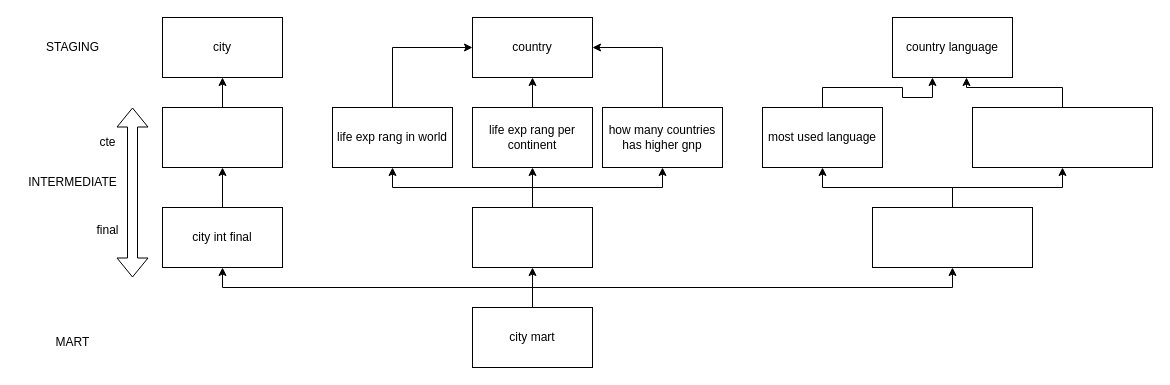
The diagram is 1170 pixels wide and 385 high, and some of its shapes have lost their labels. Each missing label, with the centre of its shape:
"city rang per country" goes at pixel 222 137.
"country int final" goes at pixel 532 237.
"country language int final" goes at pixel 952 237.
"stringify used languages from most to least used in country" goes at pixel 1062 137.
